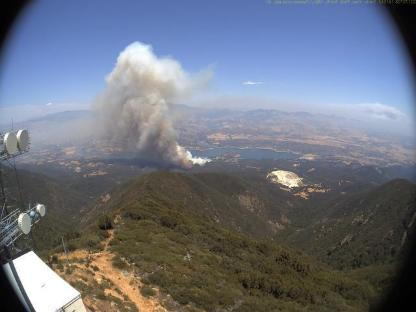smoke: (87, 40, 216, 168)
